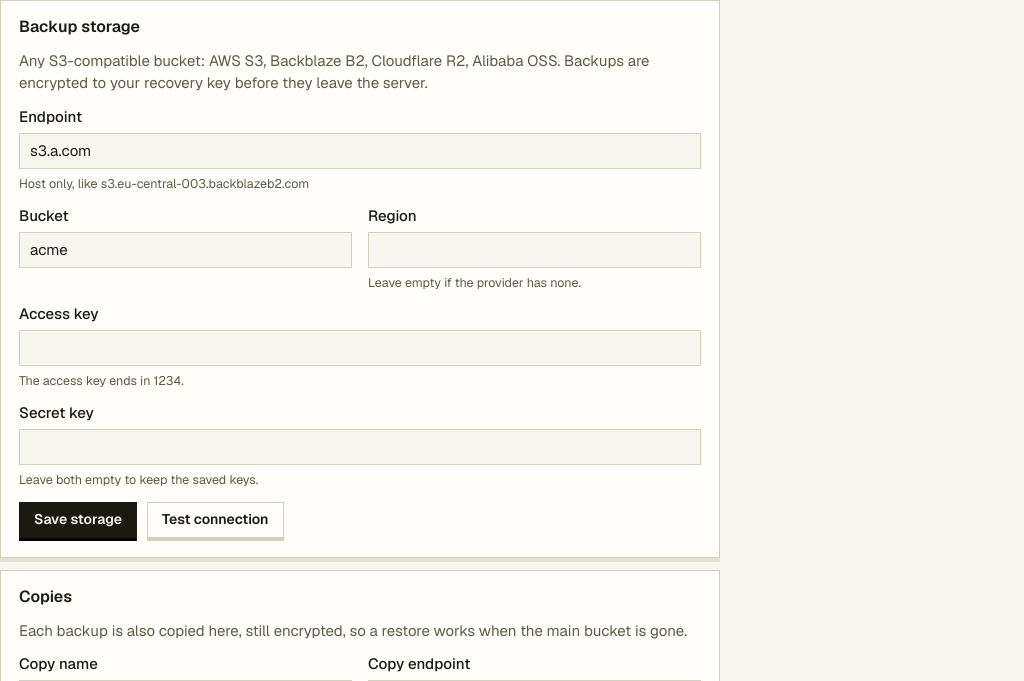
Test: Storage › saves with both keys empty when the endpoint is unchanged
expect the text "Leave both empty to keep the saved keys." is shown: met, box [19, 471, 258, 488]
Type "eu" into the field labelled "Region". click: x=534, y=250
box: [368, 232, 701, 268]
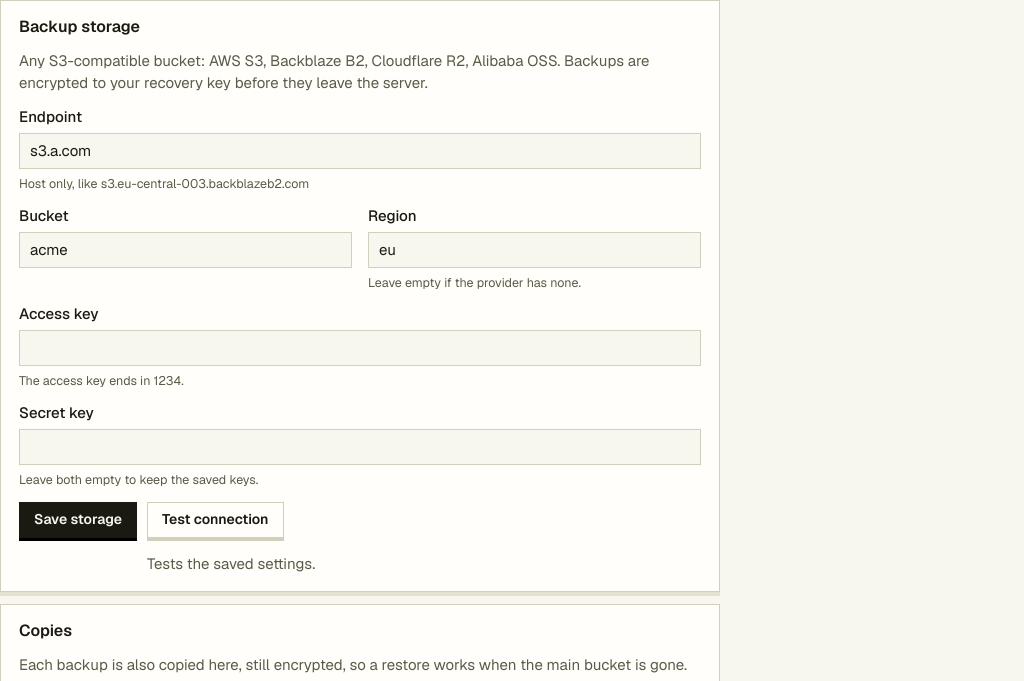
Click the button "Save storage". click: x=78, y=520
box: [19, 502, 137, 538]
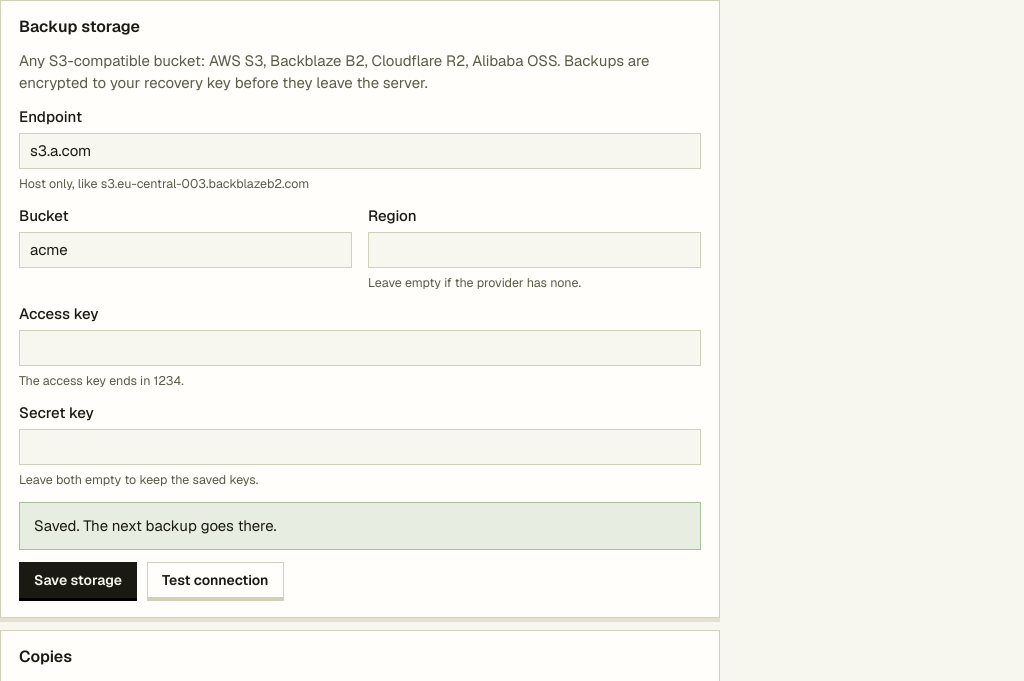
expect the text "Saved. The next backup goes there." is shown: met, box [34, 516, 277, 535]
